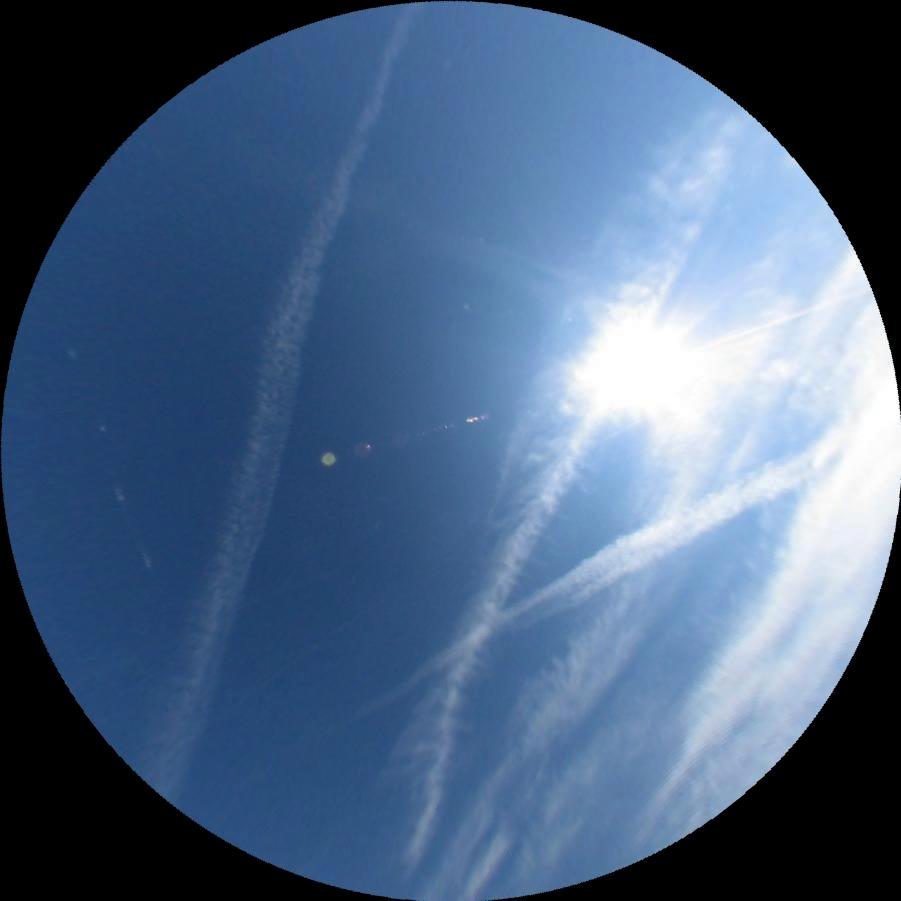contrail veryold: (310, 65, 765, 878), (123, 0, 424, 804), (342, 419, 849, 726)
parasite: (150, 607, 364, 763), (700, 283, 860, 353), (109, 486, 154, 569)
sun: (595, 312, 706, 406)
